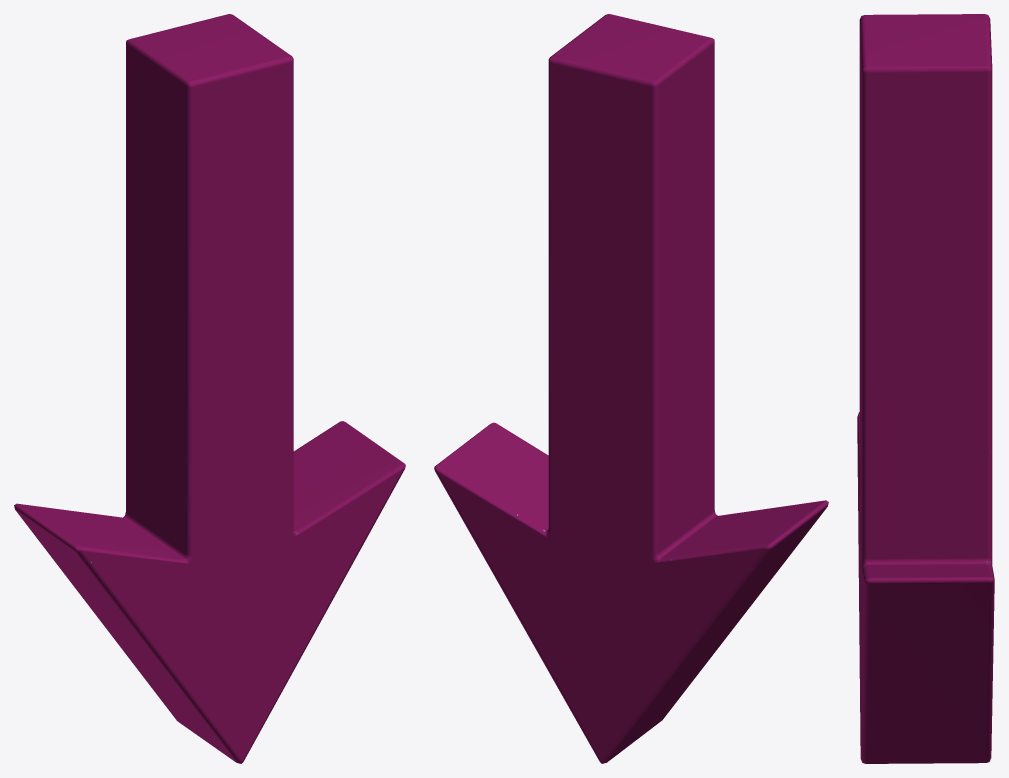
File: animArrFC.glb
The picture shows the model from 3 angles, left to right: view 1: azimuth 30°, elevation 25°; view 2: azimuth 150°, elevation 25°; view 3: azimuth 270°, elevation 25°; orthographic projection. The views are drawn at different scales.
Visible parts, largest first — view 1: Pointing_Arrow; view 2: Pointing_Arrow; view 3: Pointing_Arrow.
Part boxes in pixels (left/top/right/bottom): Pointing_Arrow: left=14, top=14, right=405, bottom=763; Pointing_Arrow: left=434, top=14, right=828, bottom=763; Pointing_Arrow: left=857, top=14, right=994, bottom=763.
Bounding box in the file's own units: 4.18 × 8.25 × 1.42.
Materials: 1 (1 with a texture image).
